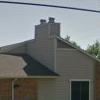Chimney: (28, 12, 69, 49)
